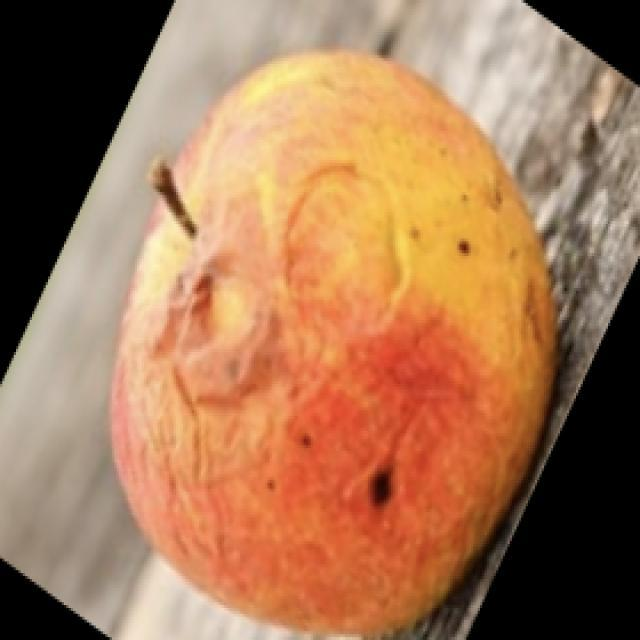Rotten: (140, 55, 543, 598)
